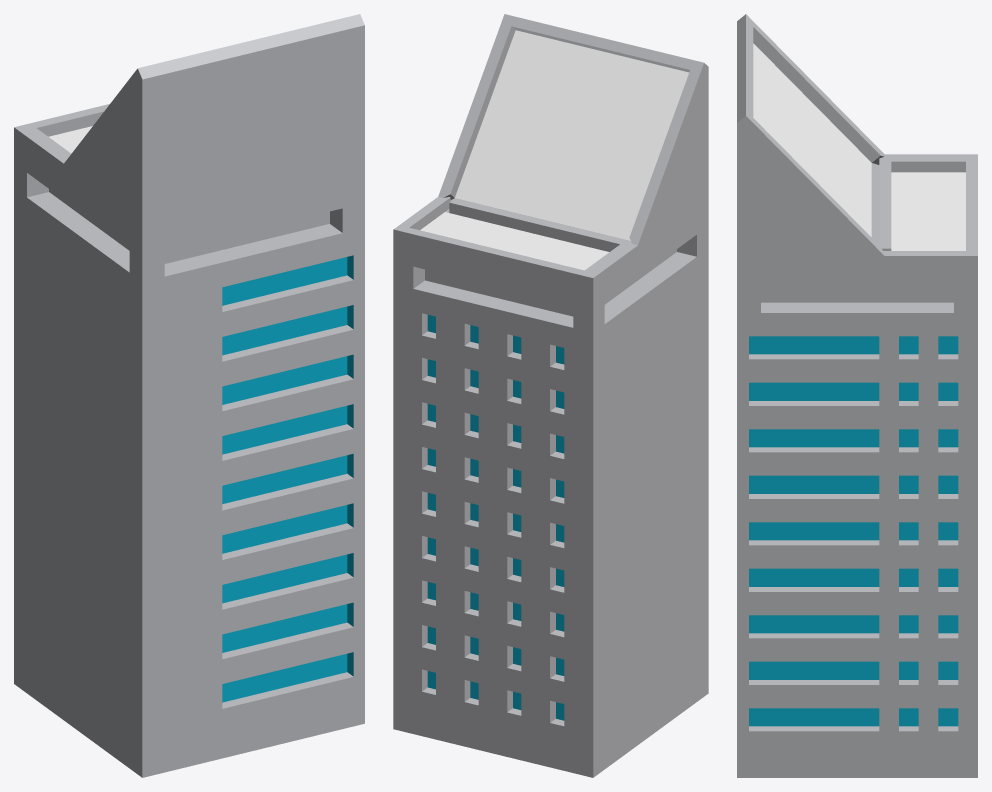
Rendered from skyscraper_2.fbx.
3 views of the same model, side by side, from view 1: azimuth 30°, elevation 25°; view 2: azimuth 150°, elevation 25°; view 3: azimuth 270°, elevation 25° (orthographic). The views are drawn at different scales.
Visible parts, largest first — view 1: Cube; view 2: Cube; view 3: Cube.
Part boxes in pixels (<box>): Cube: <box>14,14,364,777</box>; Cube: <box>393,14,708,777</box>; Cube: <box>737,14,977,777</box>.
Size of the model in its own units: 2000 by 6067 by 2000.
